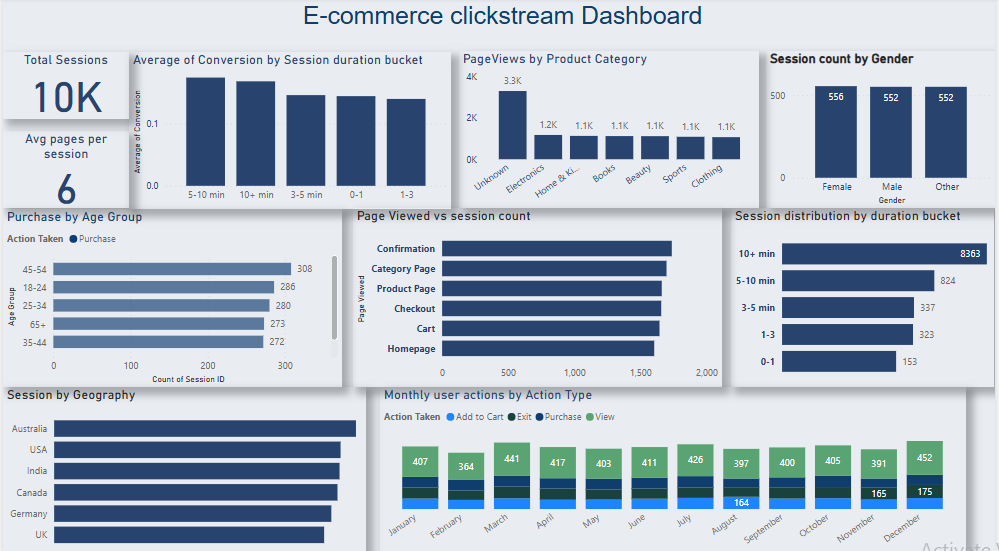

The page's visual inventory and layout, read from the dashboard file:
{"tool":"powerbi","page":{"name":"User Behavior and engagement","canvas":[1280,720],"ordinal":0},"visuals":[{"type":"columnChart","title":"Session count by Gender","fields":{"Category":["ecommerce_clickstream (1).Gender"],"Y":["Count(ecommerce_clickstream (1).Session ID)"]},"box":[1002,20.6,278,214.7],"z":0},{"type":"barChart","title":"Session by Geography","fields":{"Category":["ecommerce_clickstream (1).Geography"],"Y":["Count(ecommerce_clickstream (1).Session ID)"]},"box":[0,501.9,468.4,218.1],"z":1000},{"type":"clusteredColumnChart","fields":{"Category":["ecommerce_clickstream (1).Session duration bucket"],"Y":["Avg(ecommerce_clickstream (1).Conversion )"]},"box":[184.5,20.6,412.9,203.9],"z":2000},{"type":"barChart","title":"Session distribution by duration bucket","fields":{"Category":["ecommerce_clickstream (1).Session duration bucket"],"Y":["CountNonNull(ecommerce_clickstream (1).Session ID)"]},"box":[939.4,250.3,340.6,231],"z":3000},{"type":"card","title":"Total Sessions","fields":{"Values":["CountNonNull(ecommerce_clickstream (1).Session ID)"]},"box":[0,20.6,162.6,87.7],"z":4000},{"type":"card","title":"Avg pages per session","fields":{"Values":["ecommerce_clickstream (1).Avg pages per session"]},"box":[0,125.2,162.6,99.4],"z":5000},{"type":"columnChart","fields":{"Category":["ecommerce_clickstream (1).Product Category"],"Y":["ecommerce_clickstream (1).PageViews"]},"box":[618,20.6,362,203.7],"z":6000},{"type":"barChart","title":"Page Viewed vs session count","fields":{"Category":["ecommerce_clickstream (1).Page Viewed"],"Y":["CountNonNull(ecommerce_clickstream (1).Session ID)"]},"box":[451.4,249.1,477.6,231.2],"z":7000},{"type":"columnChart","title":"Monthly user actions by Action Type","fields":{"Category":["ecommerce_clickstream (1).Start of Month.Variation.Date Hierarchy.Month"],"Series":["ecommerce_clickstream (1).Action Taken"],"Y":["Count(ecommerce_clickstream (1).Session ID)"]},"box":[485.8,502.4,755.6,217.5],"z":8000},{"type":"barChart","title":"Purchase by Age Group","fields":{"Category":["ecommerce_clickstream (1).Age Group"],"Y":["CountNonNull(ecommerce_clickstream (1).Session ID)"],"Series":["ecommerce_clickstream (1).Action Taken"]},"box":[0,250.3,436.7,230.1],"z":9000}]}

Visuals, with their boxes on the page's 1280x720 design canvas (x1, y1, x2, y2). These are canvas units, not pixel positions in the 999x551 screenshot, which may show the page scaled, cropped or inside an application window:
"Session count by Gender" columnChart: 1002 21 1280 235
"Session by Geography" barChart: 0 502 468 720
clusteredColumnChart - ecommerce_clickstream (1).Session duration bucket x Avg(ecommerce_clickstream (1).Conversion ): 184 21 597 224
"Session distribution by duration bucket" barChart: 939 250 1280 481
"Total Sessions" card: 0 21 163 108
"Avg pages per session" card: 0 125 163 225
columnChart - ecommerce_clickstream (1).Product Category x ecommerce_clickstream (1).PageViews: 618 21 980 224
"Page Viewed vs session count" barChart: 451 249 929 480
"Monthly user actions by Action Type" columnChart: 486 502 1241 720
"Purchase by Age Group" barChart: 0 250 437 480
